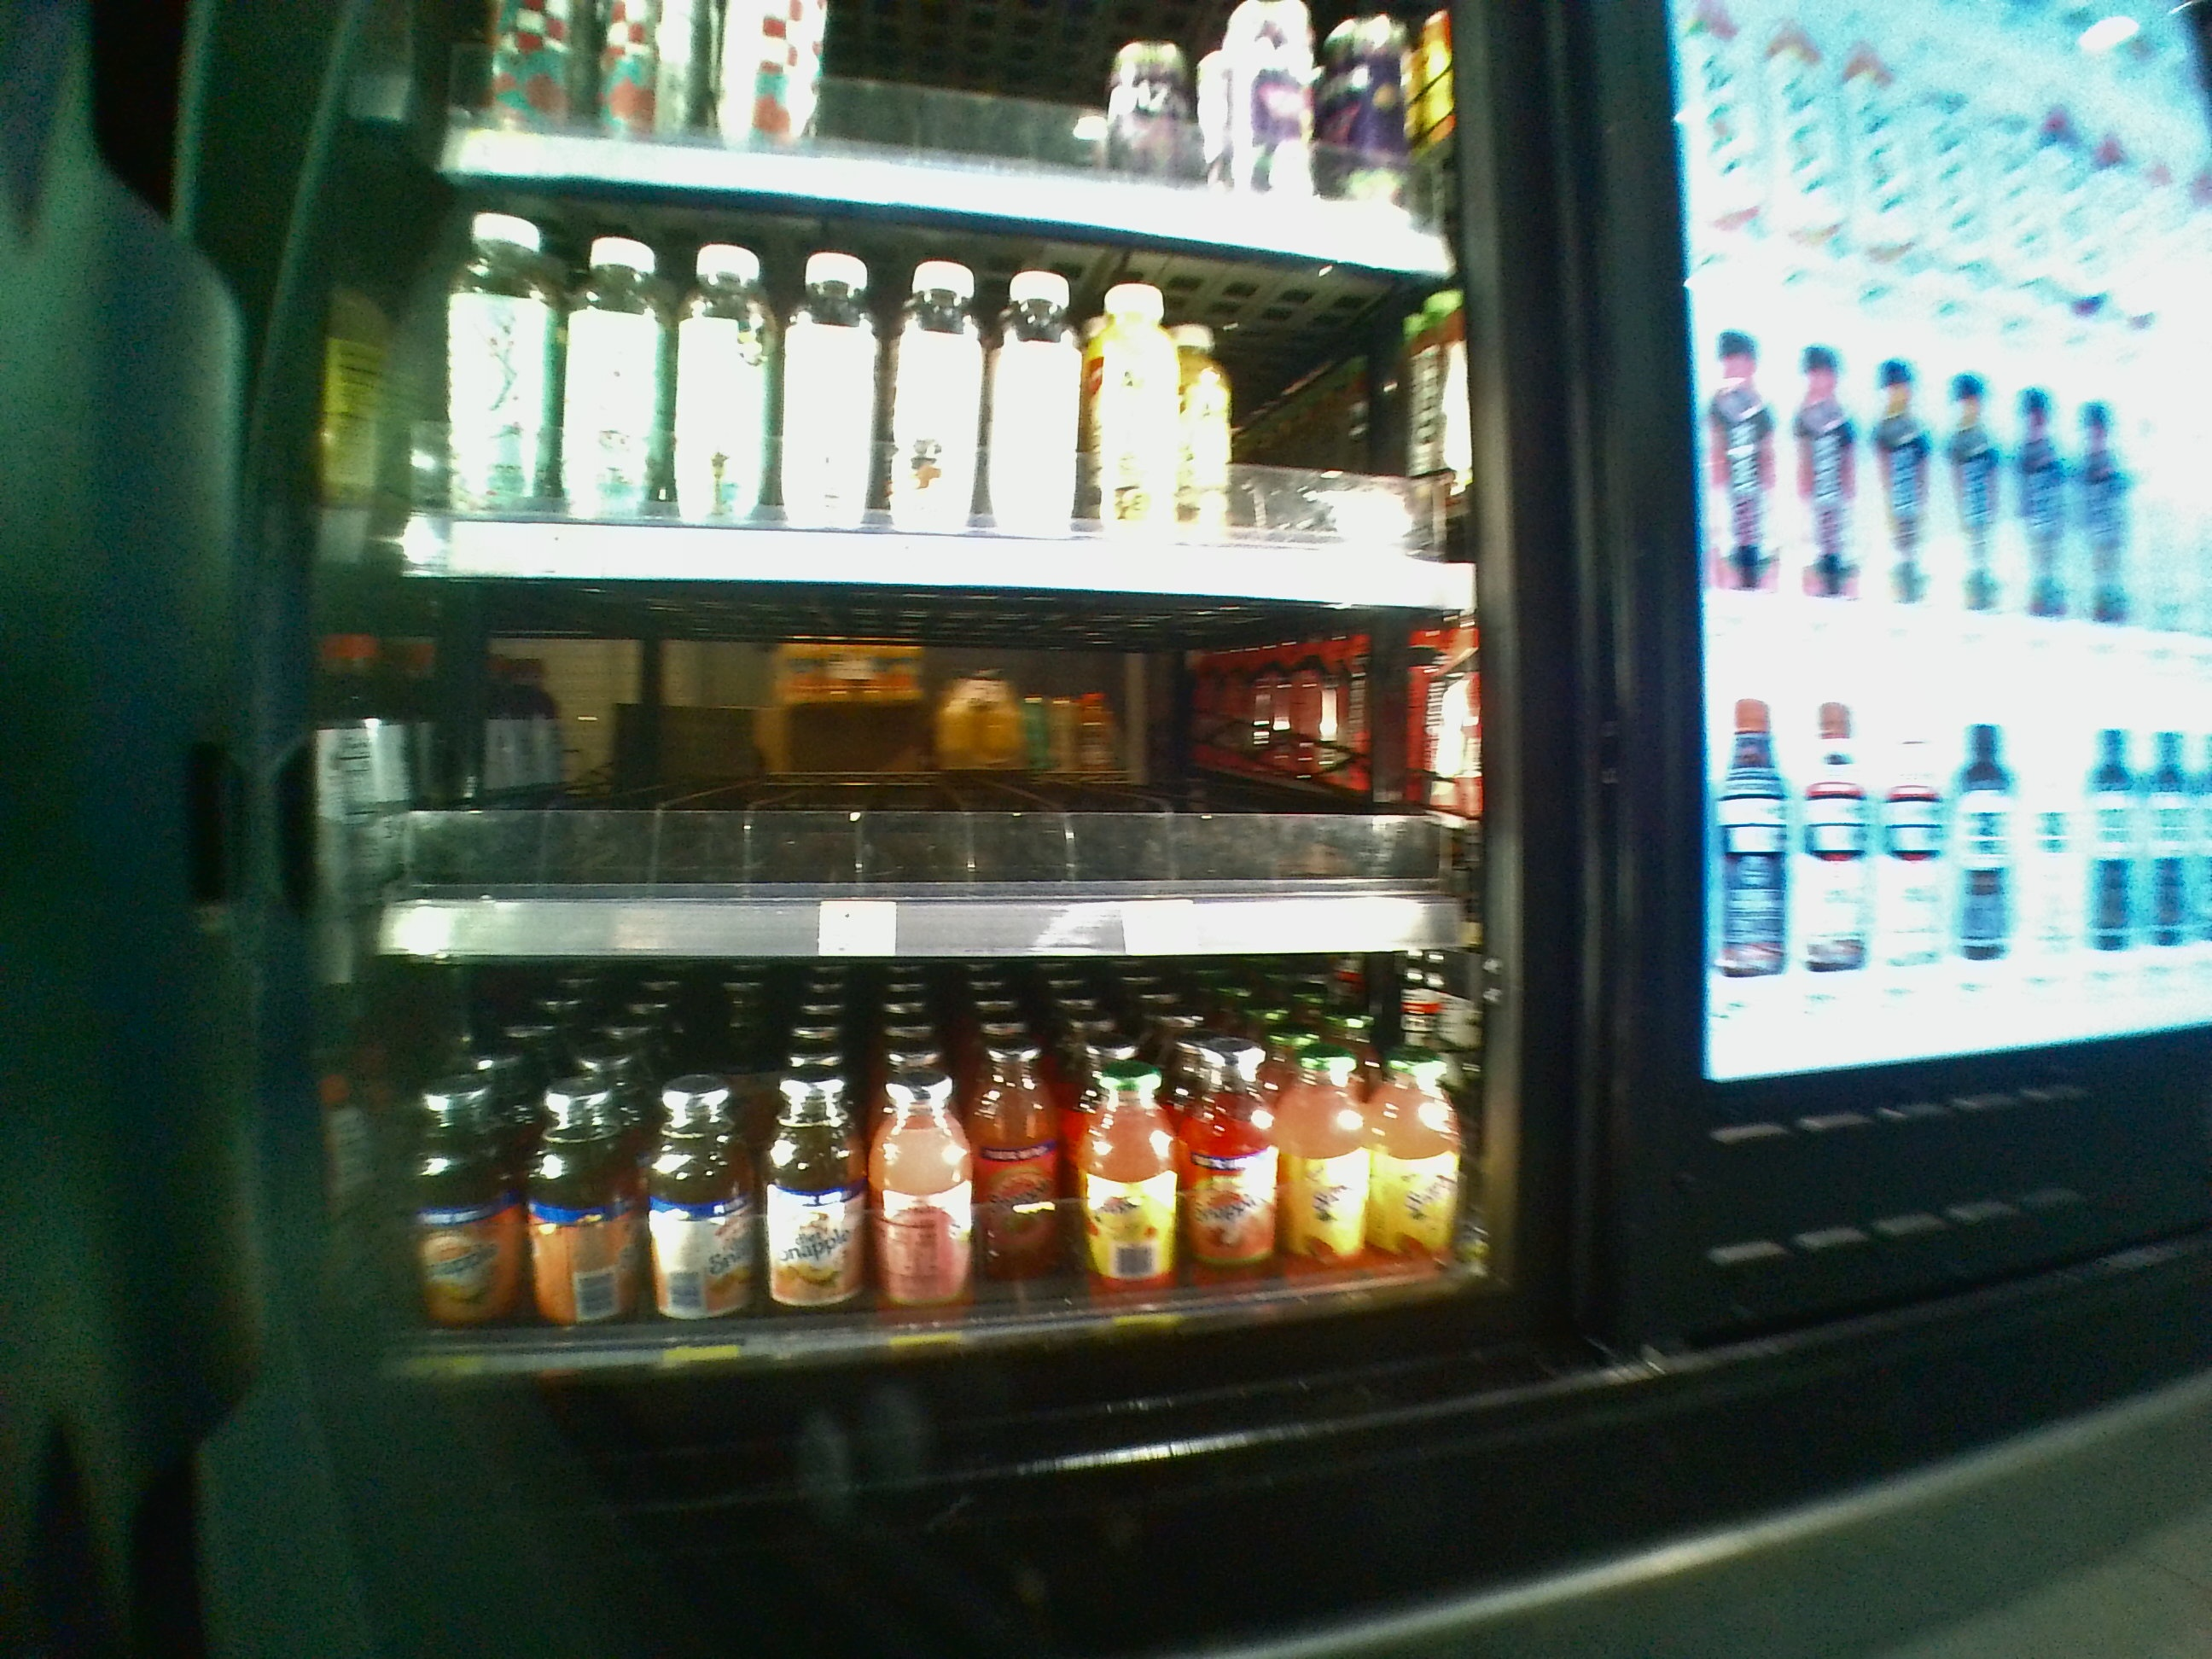shelf: (371, 964, 1493, 1364), (366, 580, 1484, 950)
